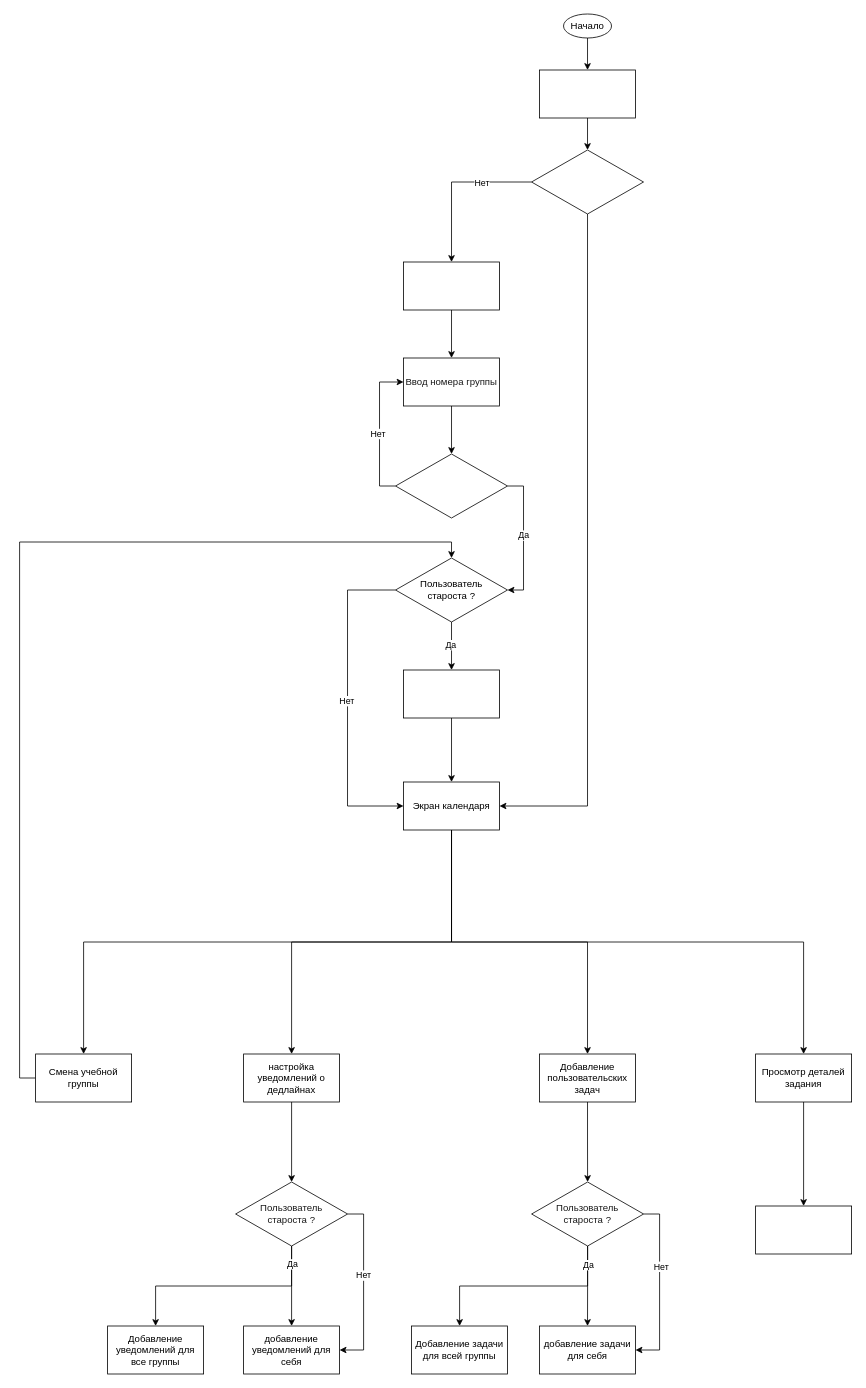
The diagram is 866 pixels wide and 1388 high, and some of its shapes have lost their labels. Each missing label, with the centre of its shape:
Ввод корректен?: the point at 451,485
Ввод ФИО, данных для spbstu.ru, авторизация: the point at 451,285
Загрузка учебного плана: the point at 451,693
Запуск приложения: the point at 587,93
Открывается отдельное окно для каждой задачи: the point at 803,1229
Профиль настроен?: the point at 587,181
